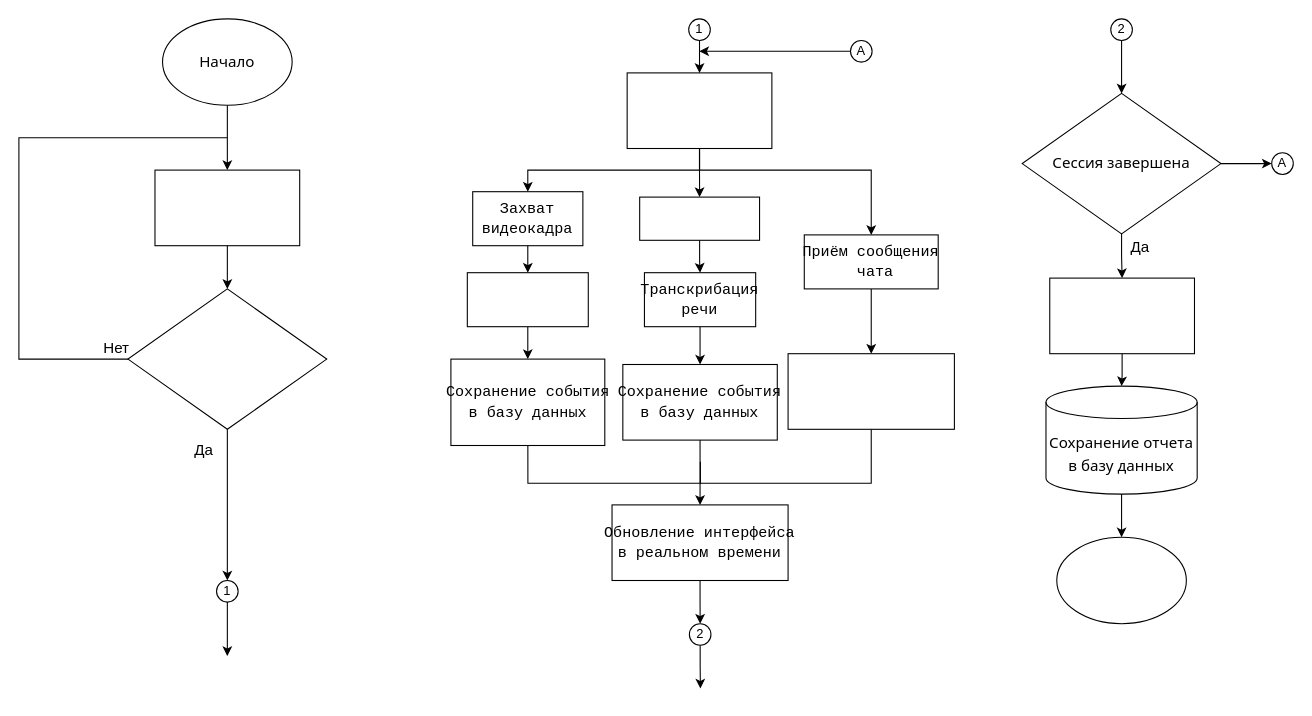
Some shapes in this 1312 by 716 pixel diagram are drawn without their labels. Each missing label, with the centre of its shape:
"Аутентификация пользователя" belongs at point (227, 207).
"Аутентификация успешна" belongs at point (227, 358).
"Детекция лица и эмоций" belongs at point (527, 299).
"Захват аудиочанка" belongs at point (699, 218).
"Конец" belongs at point (1121, 580).
"Создание или присоединение к сессии" belongs at point (699, 110).
"Трансляция сообщения участникам" belongs at point (870, 391).
"Формирование итогового отчёта" belongs at point (1121, 315).
